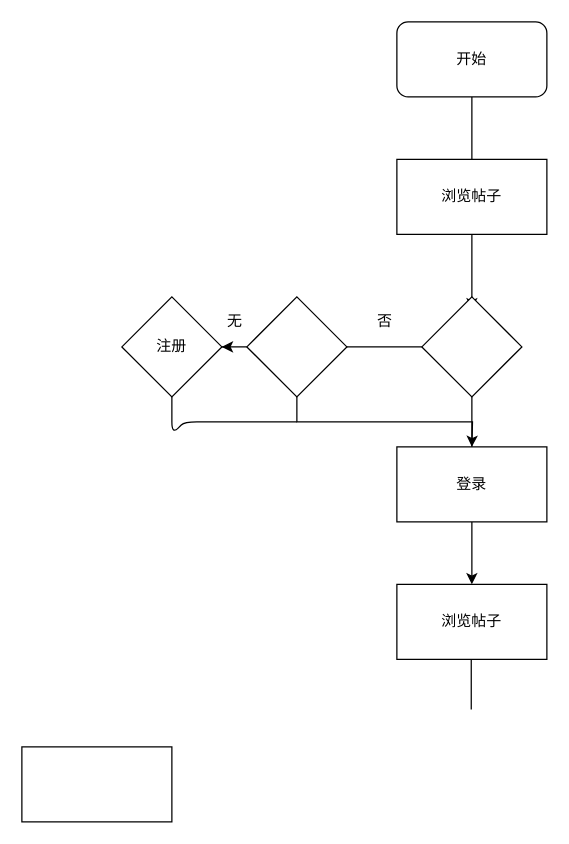
The diagram is 569 pixels wide and 844 high, and some of its shapes have lost their labels. Each missing label, with the centre of its shape:
"是否登录" goes at point 471,346.
"有无账号" goes at point 296,346.
"点赞" goes at point 96,784.
